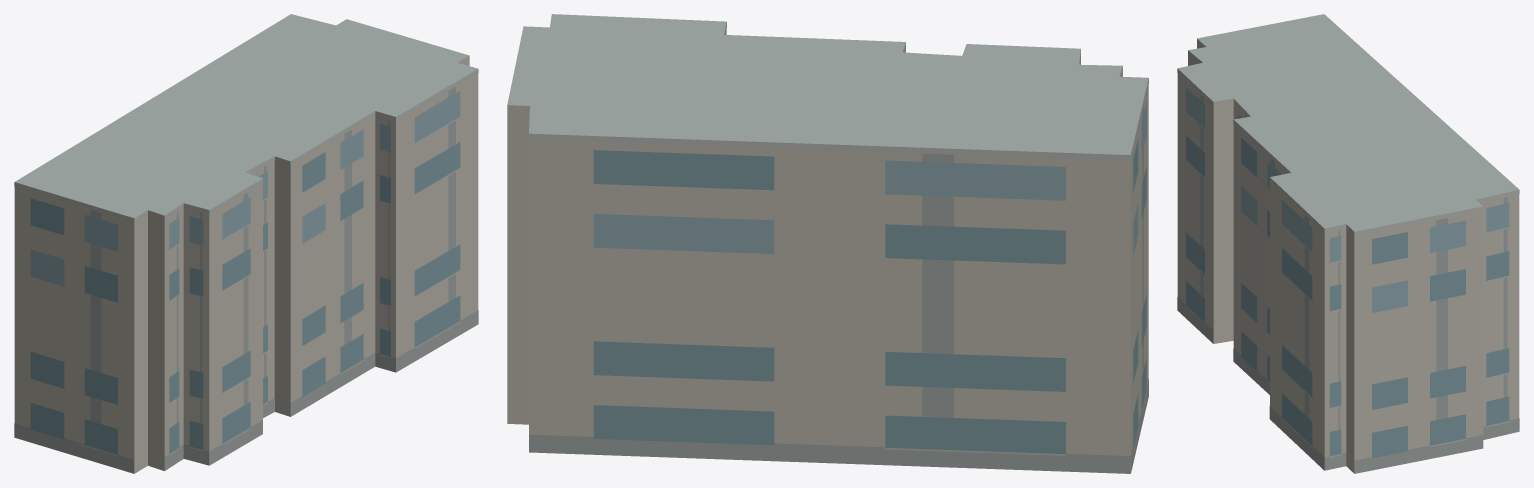
The model's file is survey-upis-32629499.glb.
The picture shows the model from 3 angles, left to right: view 1: azimuth 30°, elevation 25°; view 2: azimuth 150°, elevation 25°; view 3: azimuth 270°, elevation 25°; orthographic projection. The views are drawn at different scales.
Visible parts, largest first — view 1: survey-upis-32629499.tmp; view 2: survey-upis-32629499.tmp; view 3: survey-upis-32629499.tmp.
Boxes of the visible parts, x1,y1,x2,y2 form: survey-upis-32629499.tmp: (14,14,478,473); survey-upis-32629499.tmp: (507,14,1148,473); survey-upis-32629499.tmp: (1177,14,1519,473).
Bounding box in the file's own units: 25.37 × 13.15 × 16.84.
